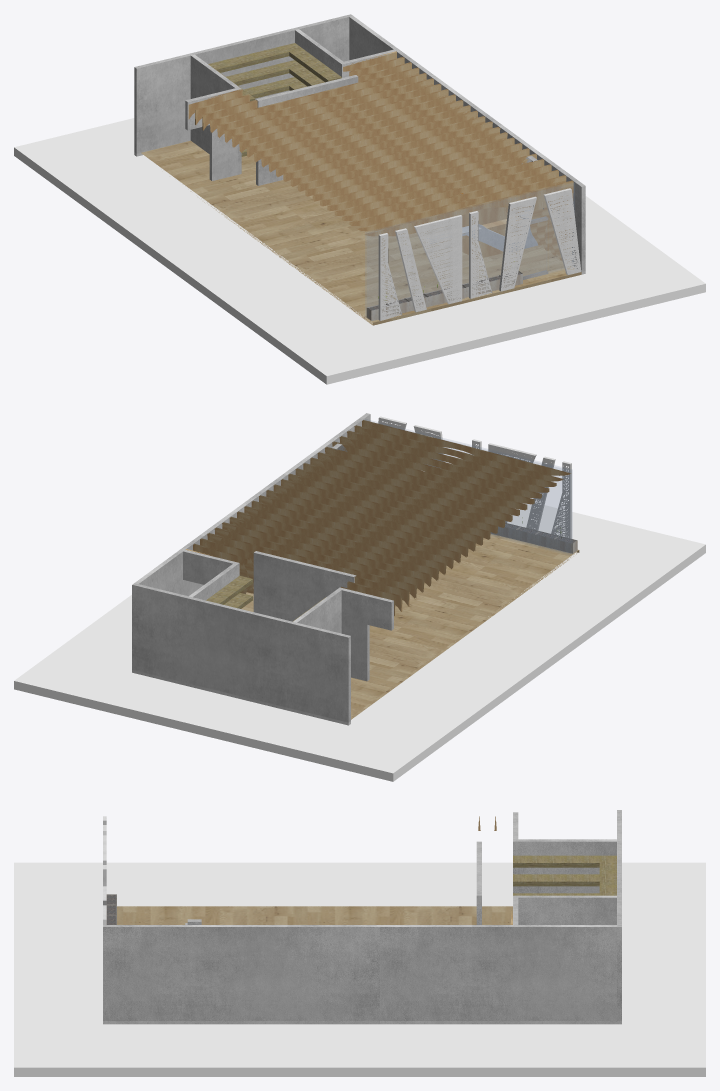
The model's file is room.glb.
3 renders of one model, top to bottom at view 1: azimuth 30°, elevation 25°; view 2: azimuth 150°, elevation 25°; view 3: azimuth 270°, elevation 25°, orthographic. The views are drawn at different scales.
Parts seen in each view (by area): view 1: Mesh3_FrontColor_0; view 2: Mesh3_FrontColor_0; view 3: Mesh3_FrontColor_0.
Boxes of the visible parts, x1,y1,x2,y2 form: Mesh3_FrontColor_0: [14, 14, 705, 384]; Mesh3_FrontColor_0: [14, 413, 705, 781]; Mesh3_FrontColor_0: [14, 810, 705, 1076].
Size of the model in its own units: 14 by 3.4 by 20.
Materials: 14 (10 with a texture image).
